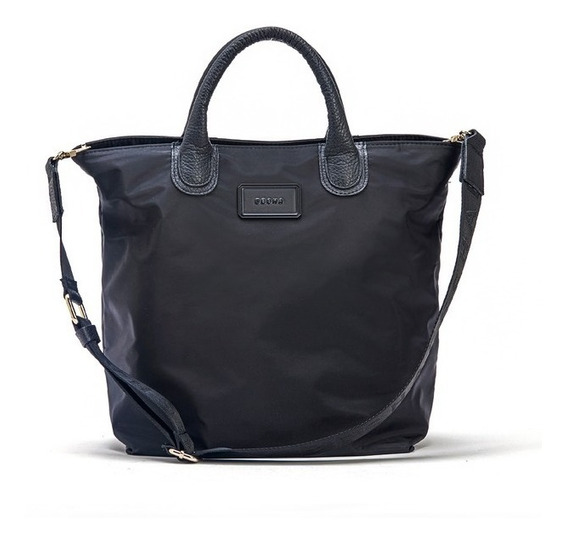cartera: (44, 26, 486, 462)
